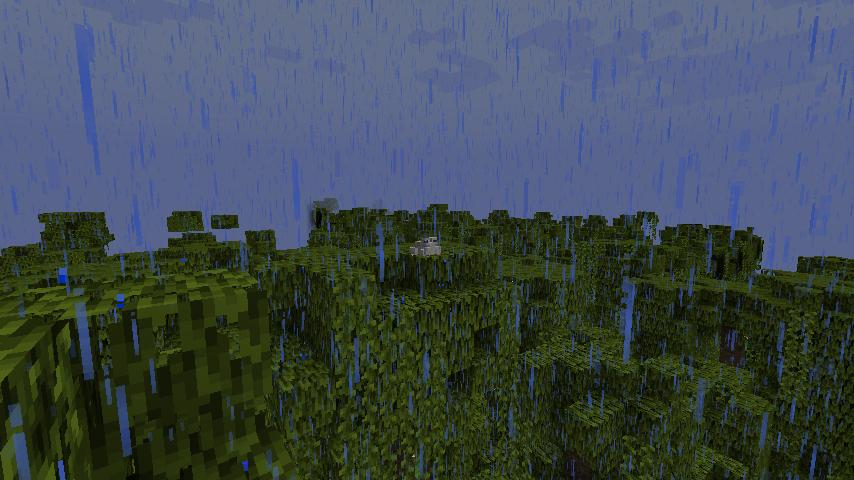frog: (406, 233, 444, 261)
